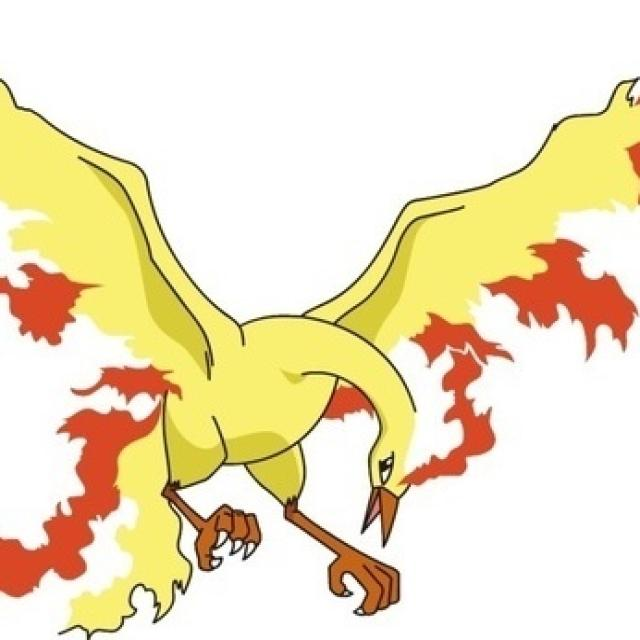Moltres: (52, 180, 512, 626)
